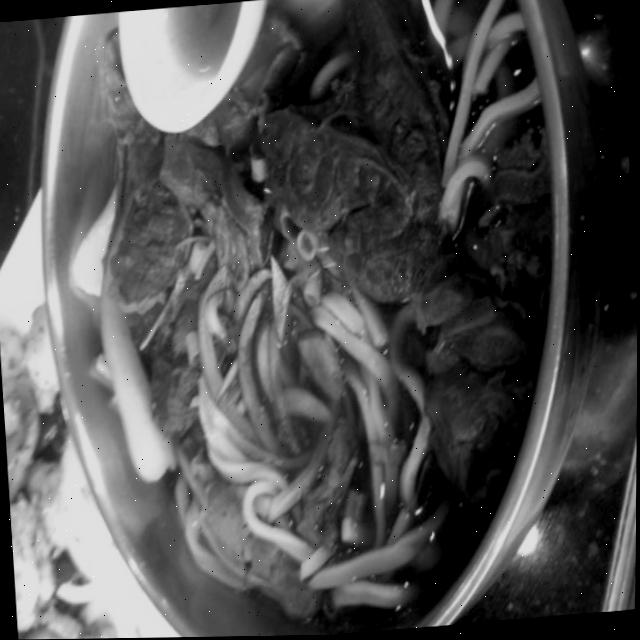面条主食: (35, 0, 623, 640)
